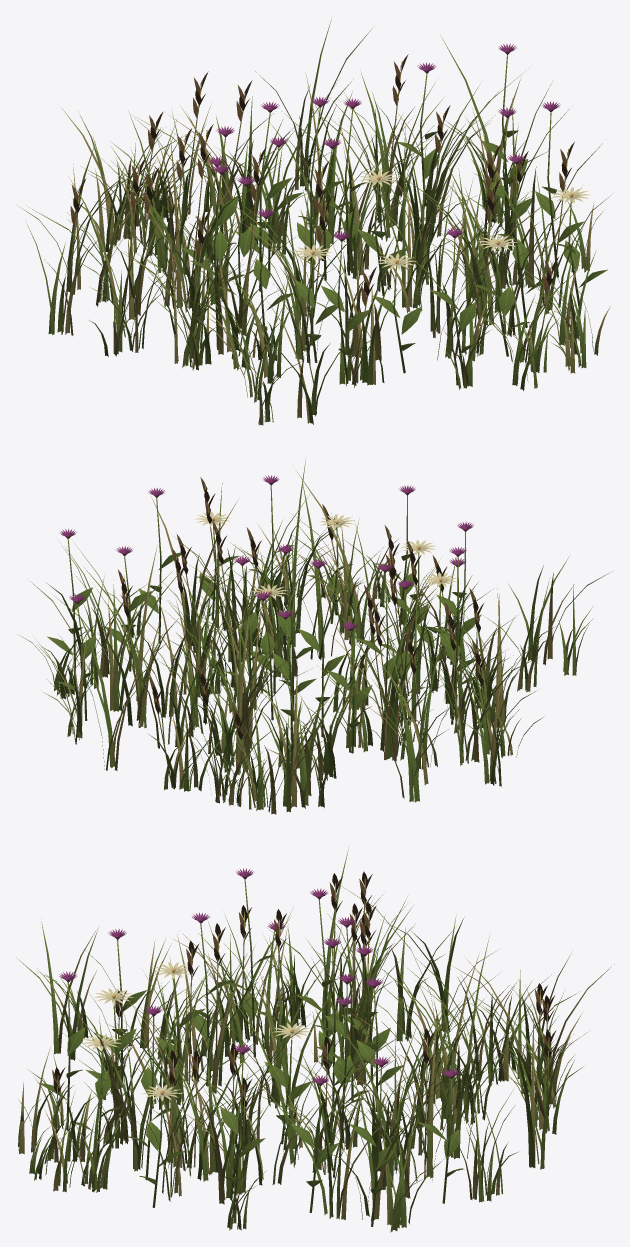
The model's file is frontier_sunmeadow_meadow_lod0.glb.
The picture shows the model from 3 angles, top to bottom: view 1: azimuth 30°, elevation 25°; view 2: azimuth 150°, elevation 25°; view 3: azimuth 270°, elevation 25°; orthographic projection. The views are drawn at different scales.
Parts seen in each view (by area): view 1: frontier_sunmeadow_meadow_LOD0; view 2: frontier_sunmeadow_meadow_LOD0; view 3: frontier_sunmeadow_meadow_LOD0.
Part boxes in pixels (x1,y1,x2,y2): frontier_sunmeadow_meadow_LOD0: (17, 19, 610, 425); frontier_sunmeadow_meadow_LOD0: (17, 459, 612, 814); frontier_sunmeadow_meadow_LOD0: (16, 847, 614, 1232).
Bounding box in the file's own units: 2.17 × 0.7194 × 2.13.
1 material, 1 textured.
